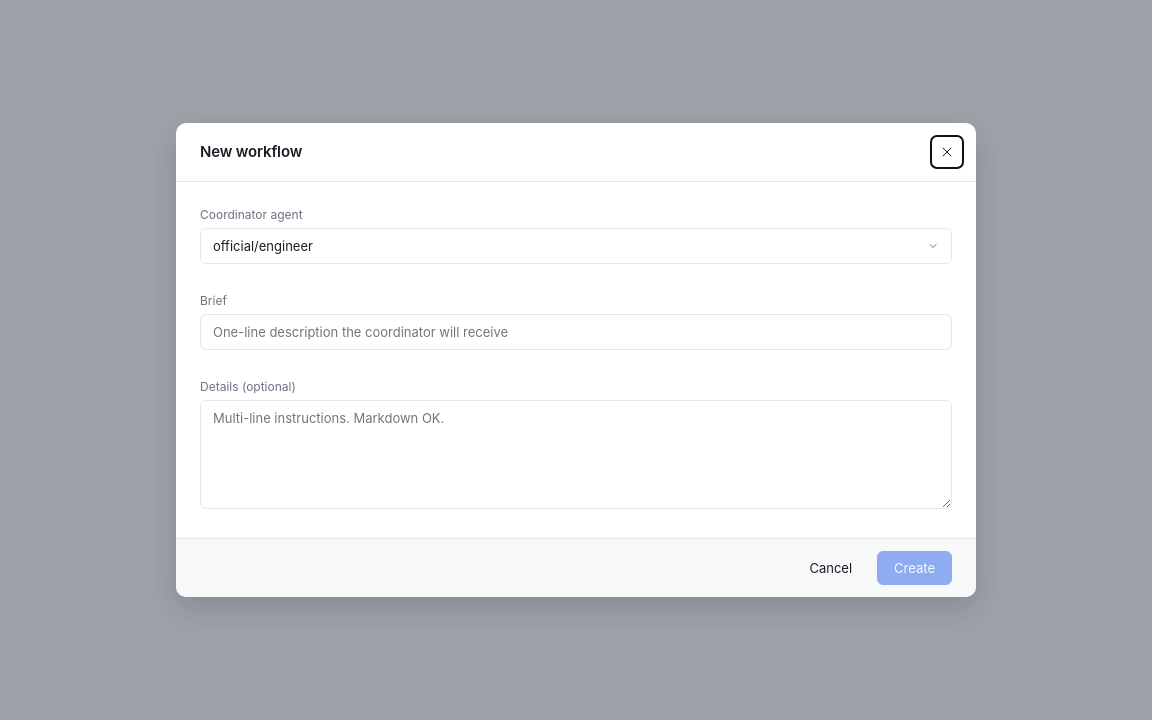
Scenario: CreateWorkflowModal — field-scoped error rendering › renders a coord-agent ApiError inline next to the agent select
The image size is (1152, 720).
In the field with test id "create-workflow-brief": (576, 332) x1=200 y1=314 x2=952 y2=350, type "Plan it"
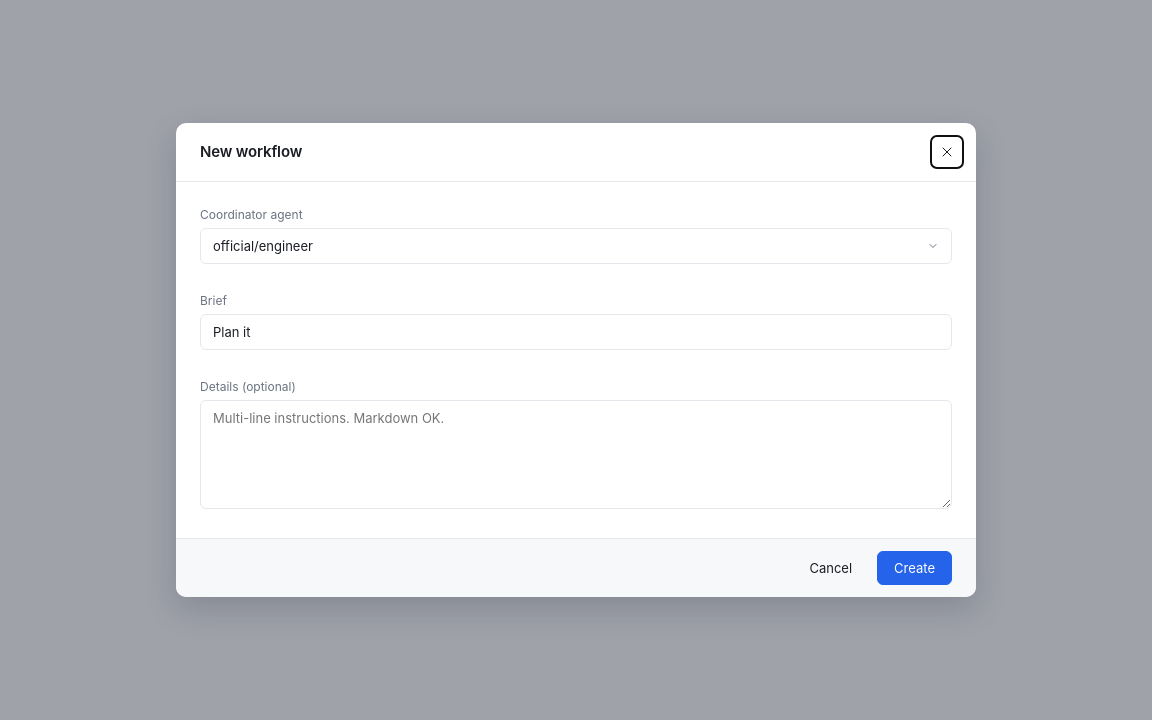
Click the button with test id "create-workflow-submit": (915, 568) x1=877 y1=551 x2=952 y2=585
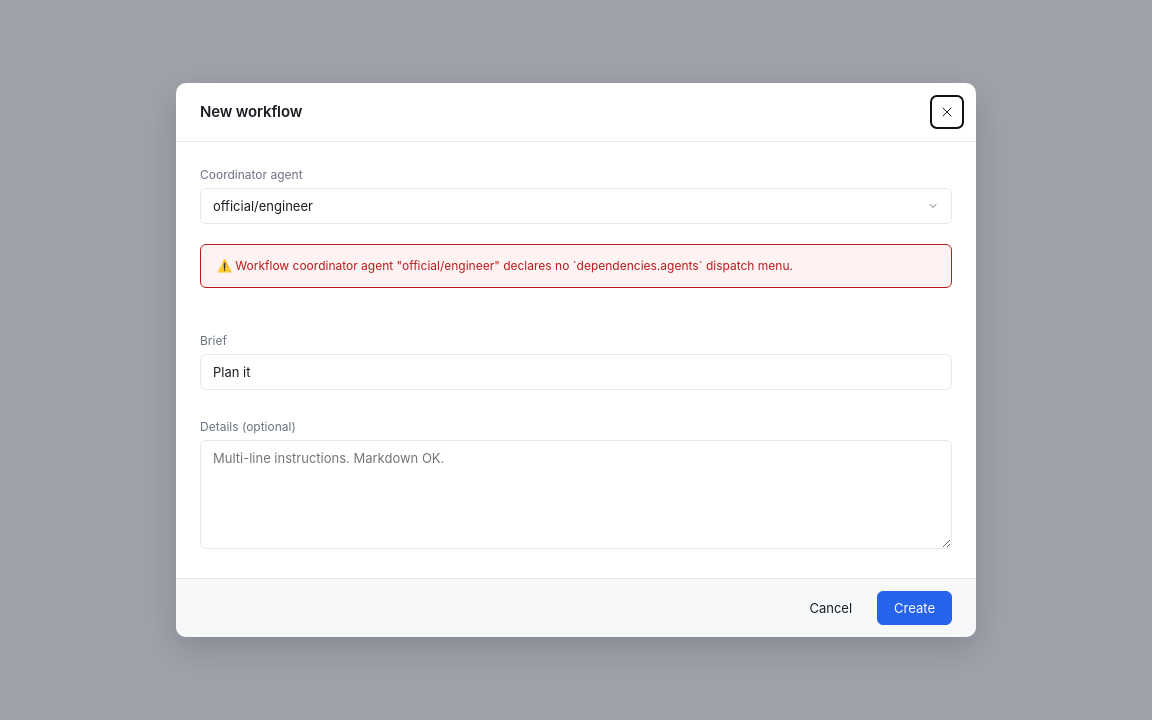
Now the button with test id "create-workflow-submit" is enabled, box x1=877 y1=591 x2=952 y2=625
Now the message with test id "create-workflow-agent-error" shows "dispatch menu", box x1=235 y1=258 x2=793 y2=273
